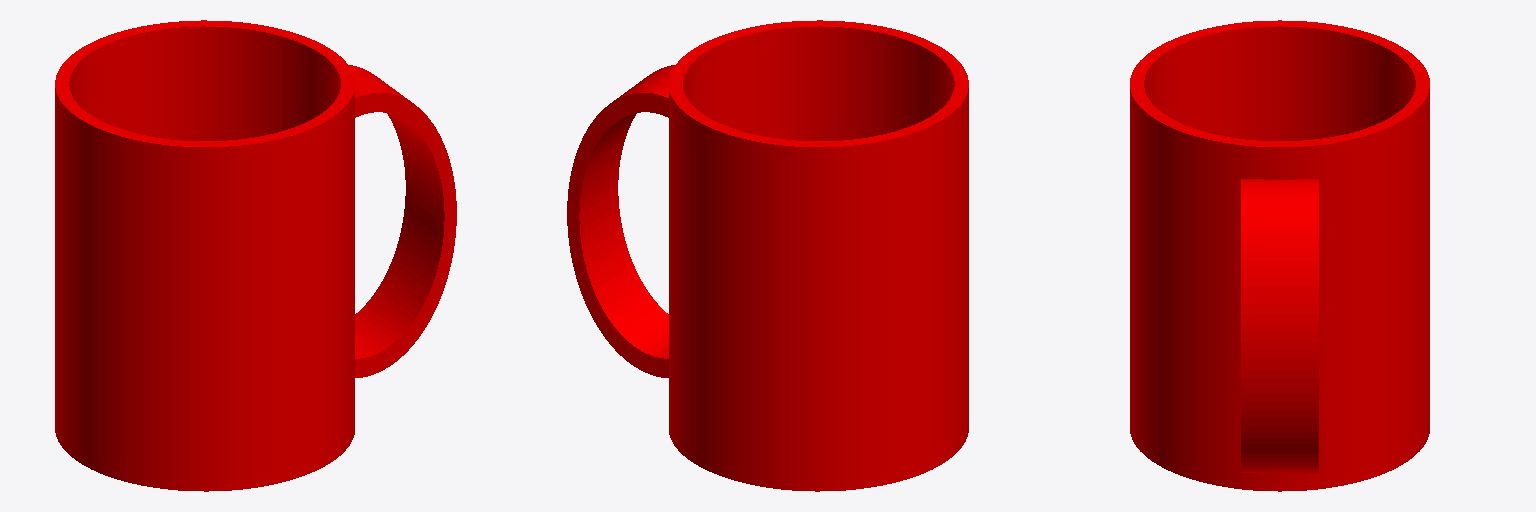
robot.urdf — mug.urdf:
<?xml version="1.0" ?>
<robot name="mug.urdf">
  <link name="baseLink">
    <contact>
      <lateral_friction value="1.0"/>
      <inertia_scaling value="3.0"/>
    </contact>
    <inertial>
      <origin rpy="0 0 0" xyz="0 0 0"/>
       <mass value=".1"/>
       <inertia ixx="1" ixy="0" ixz="0" iyy="1" iyz="0" izz="1"/>
    </inertial>
    <visual>
      <origin rpy="0 0 0" xyz="0 0 0"/>
      <geometry>
        <mesh filename="0.stl" scale="1 1 1" />
      </geometry>
      <material name="red">
        <color rgba="1 0 0 1"/>
      </material>
    </visual>
    <collision>
      <origin rpy="0 0 0" xyz="0 0 0"/>
      <geometry>
        <mesh filename="0_convex.obj" scale="1 1 1" />
      </geometry>
    </collision>
  </link>
</robot>

--- Render facts (derived) ---
The picture shows the robot from 3 angles, left to right: view 1: azimuth 30°, elevation 25°; view 2: azimuth 150°, elevation 25°; view 3: azimuth 270°, elevation 25°; orthographic projection.
Model mug.urdf with 1 links and 0 joints (none), rooted at baseLink, posed all joints at 0.
Visible links, largest first — view 1: baseLink; view 2: baseLink; view 3: baseLink.
Link boxes in pixels (bbox=[...]): baseLink: bbox=[55, 20, 456, 491]; baseLink: bbox=[567, 20, 968, 491]; baseLink: bbox=[1130, 20, 1429, 491].
Bounding box of the posed robot: 0.1472 × 0.1057 × 0.1336 m (x, y, z).
1 mesh visuals loaded from 1 distinct referenced files (1 binary STL).